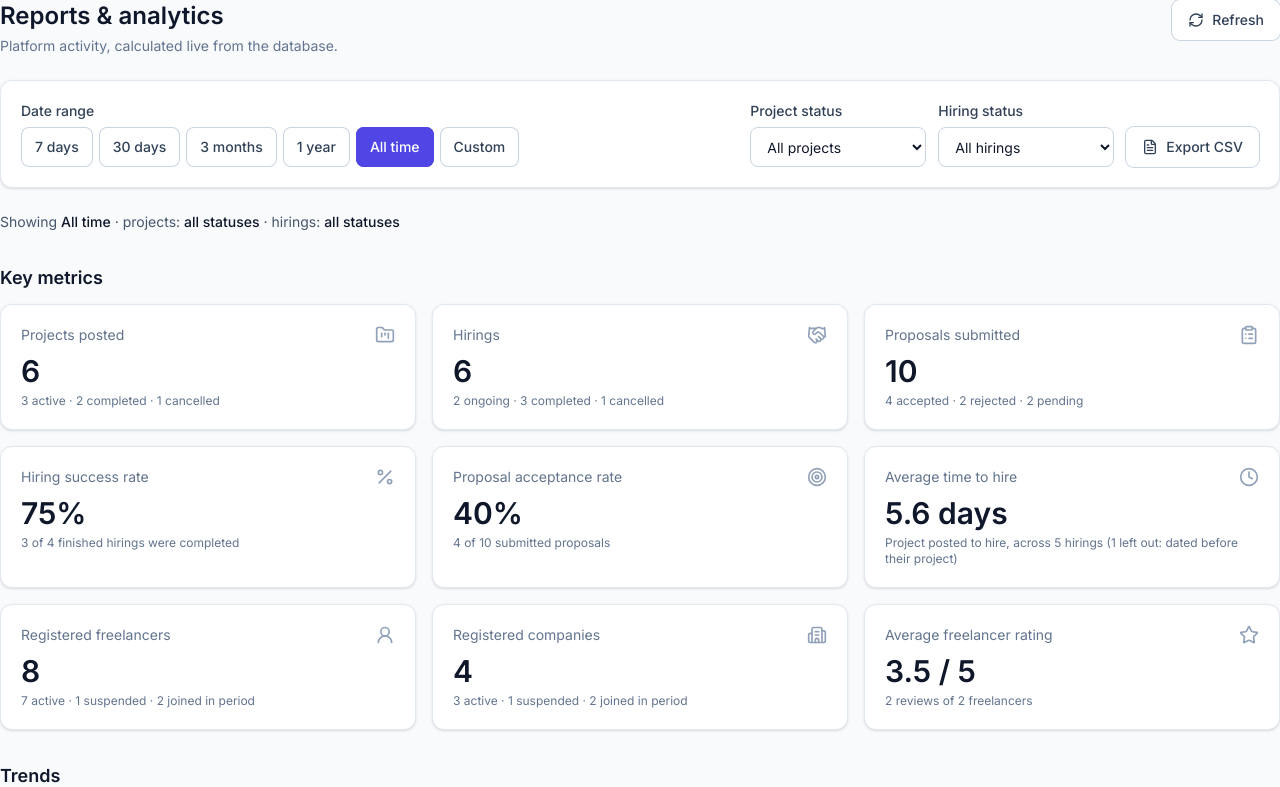
it: the page › exports the filters that are applied (not ones still being typed) and downloads the CSV
This screenshot has width=1280, height=787.
expect the heading "Key metrics" is shown: met, box [0, 267, 103, 288]
Click the button "30 days".
click(139, 147)  # box [99, 127, 180, 167]
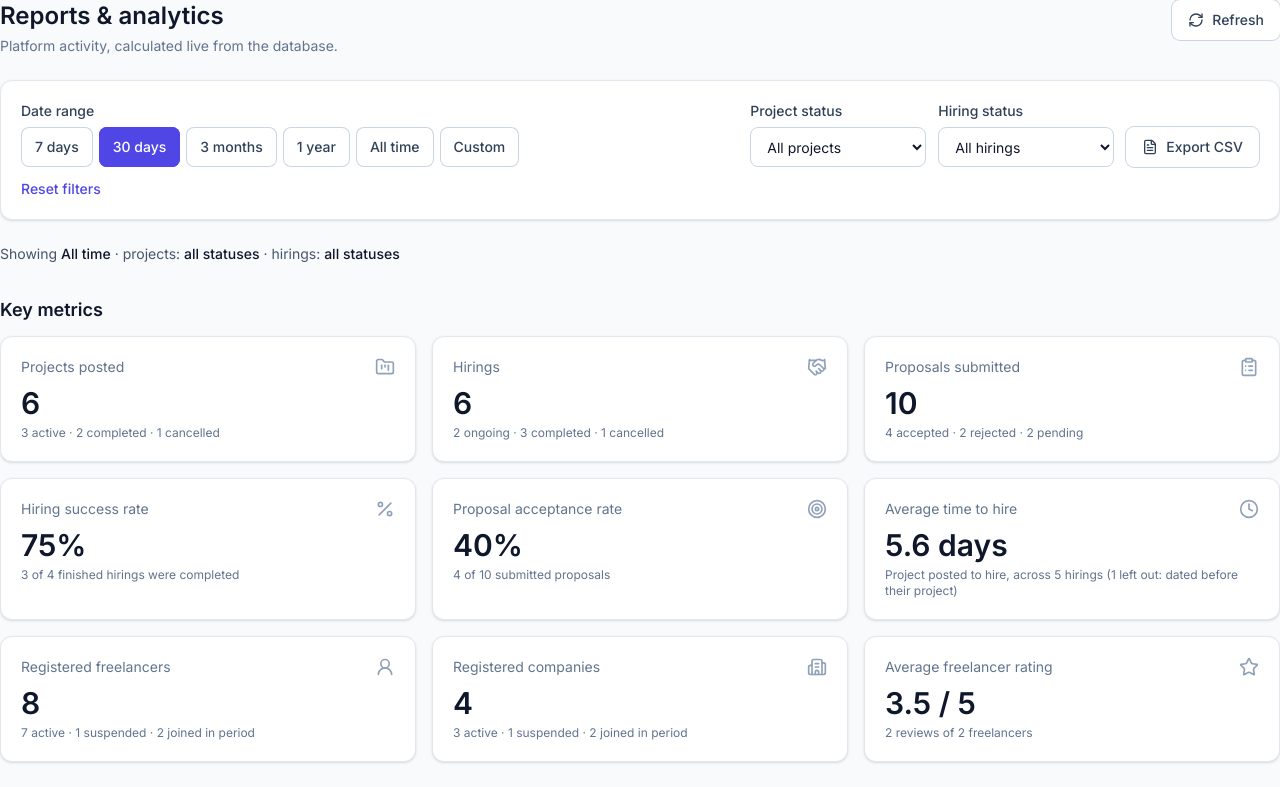
Click the button "Custom".
click(479, 147)  # box [440, 127, 519, 167]
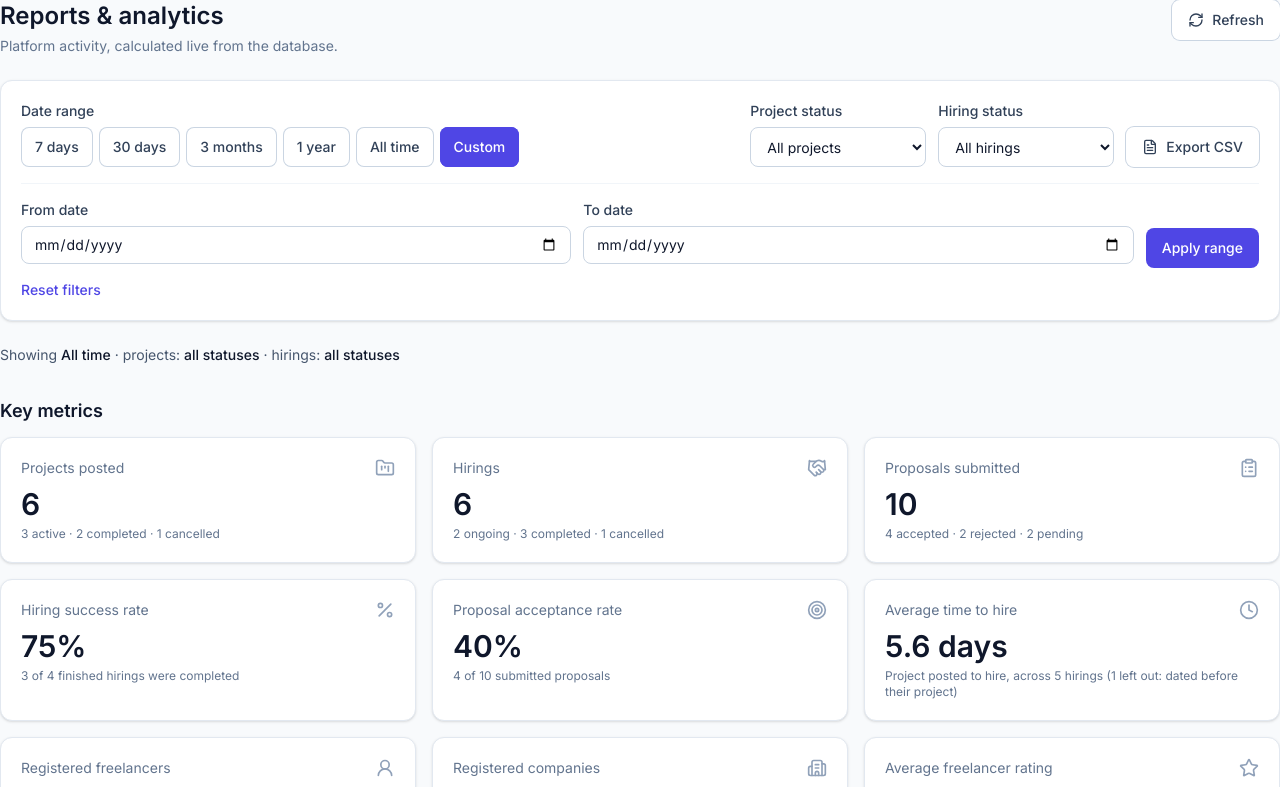
Type "2001-03-01" into the date field labelled "From date".
click(296, 245); type("2001-03-01")  # box [21, 226, 571, 264]
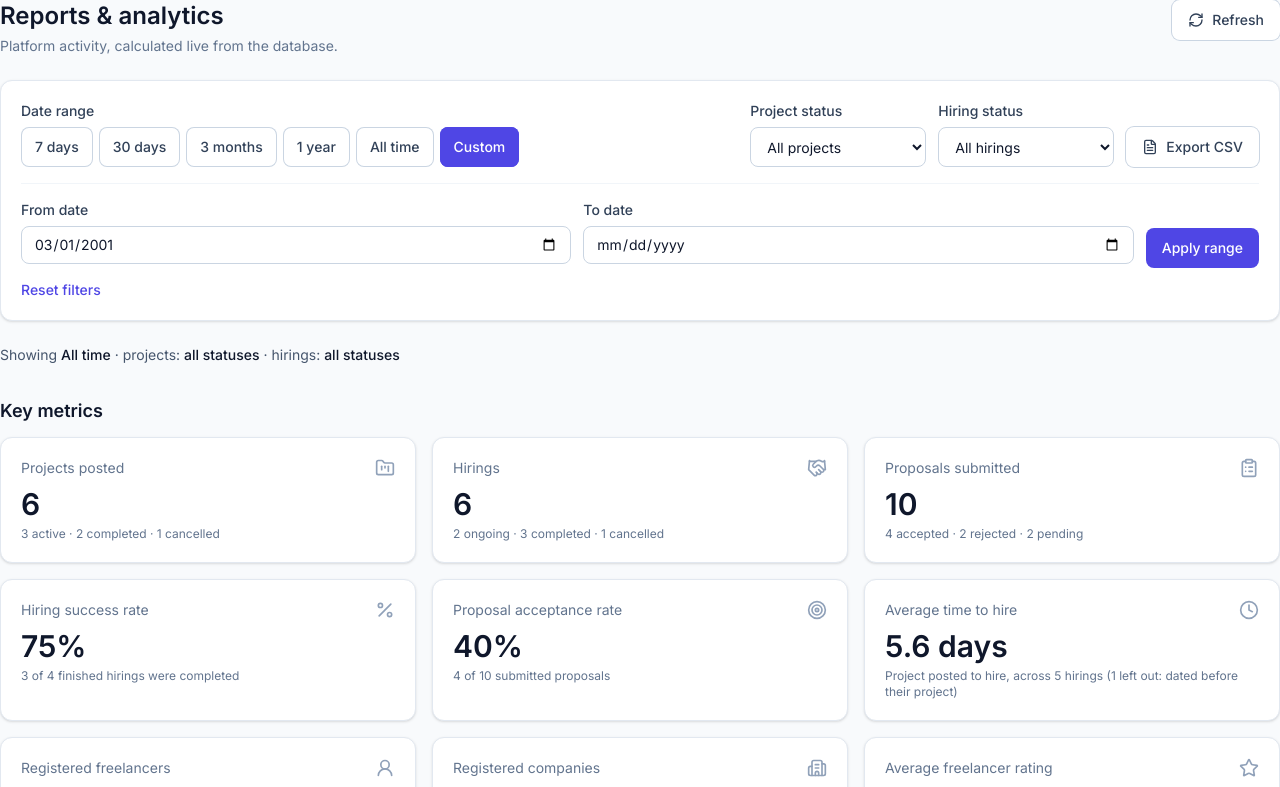
Click the button "Export CSV".
click(1193, 147)  # box [1126, 127, 1259, 167]
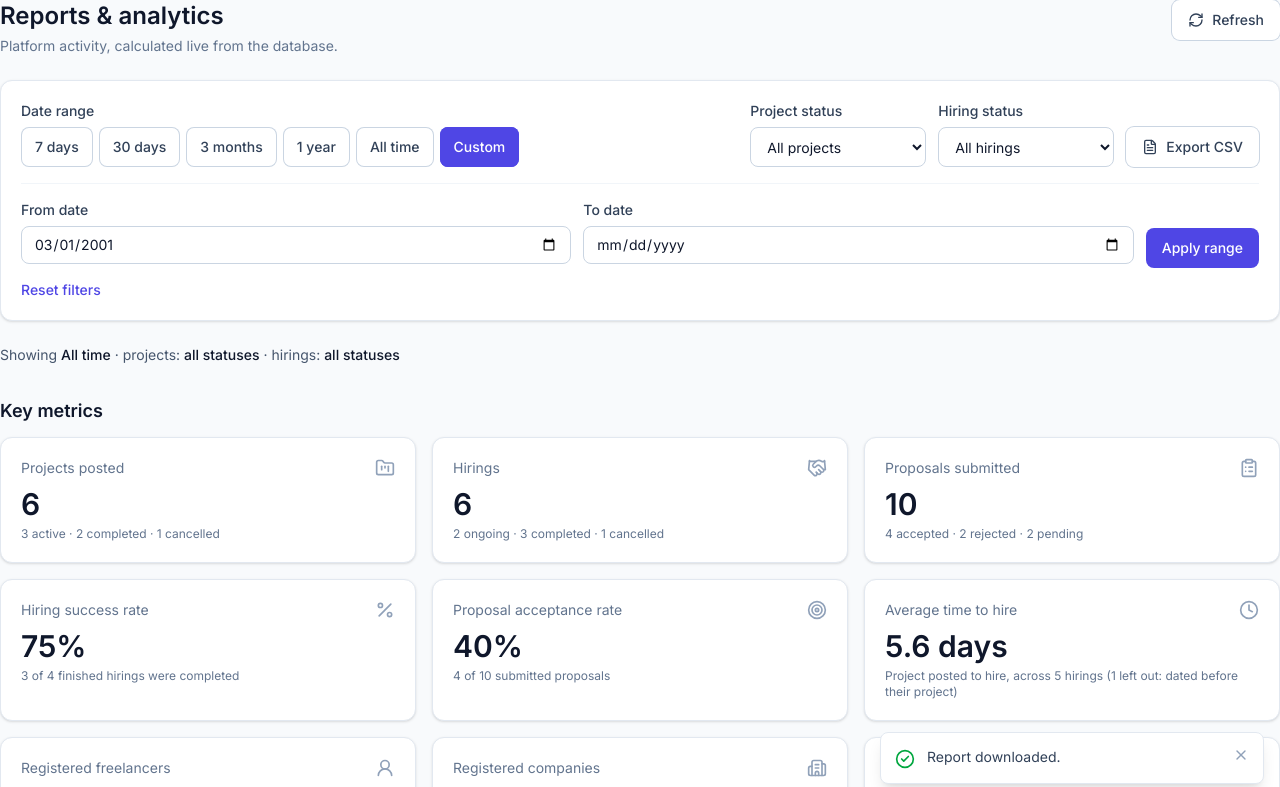
expect the text "Report downloaded." is shown: met, box [927, 748, 1060, 765]
